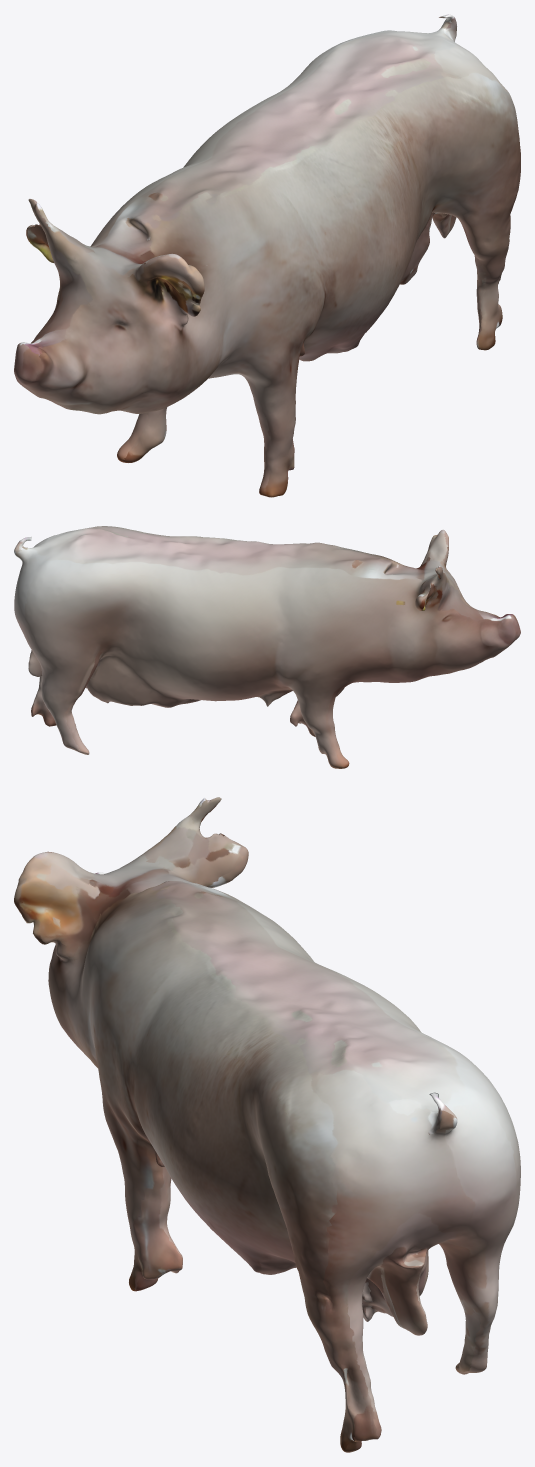
File: adulto.glb
3 views of the same model, one above another, from view 1: azimuth 30°, elevation 25°; view 2: azimuth 150°, elevation 25°; view 3: azimuth 270°, elevation 25° (orthographic). The views are drawn at different scales.
Parts seen in each view (by area): view 1: mesh; view 2: mesh; view 3: mesh.
Part boxes in pixels (bbox=[...]): mesh: bbox=[14, 14, 520, 497]; mesh: bbox=[14, 526, 520, 768]; mesh: bbox=[14, 797, 520, 1452].
Bounding box in the file's own units: 1.77 × 0.8932 × 1.1.
1 material, 1 textured.
